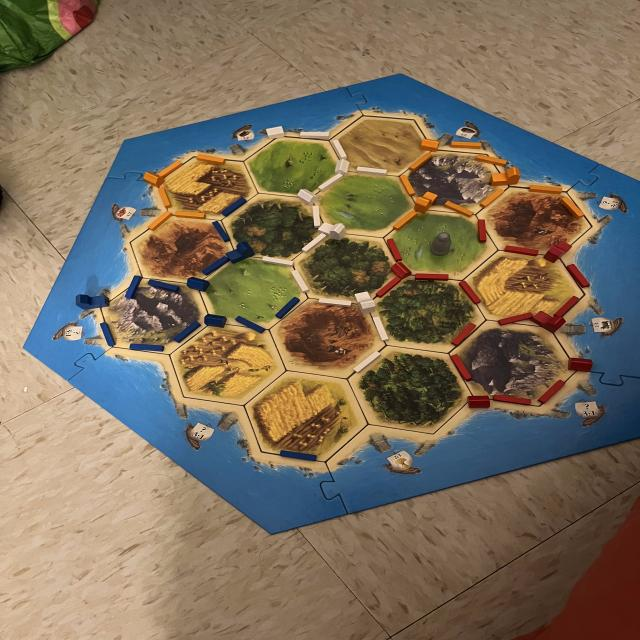blue-city: (74, 293, 112, 311), (226, 243, 257, 263)
blue-road: (271, 296, 304, 318), (277, 449, 321, 462), (172, 322, 202, 341), (219, 197, 247, 217), (127, 340, 167, 354), (201, 256, 230, 275), (97, 321, 118, 346), (147, 278, 178, 294), (209, 220, 231, 242), (236, 317, 266, 332), (125, 275, 140, 296)
blue-settlement: (201, 312, 230, 328), (187, 276, 212, 292)
orange-city: (489, 166, 519, 188), (414, 190, 438, 215)
orange-road: (557, 194, 586, 218), (480, 188, 513, 207), (146, 209, 174, 230), (153, 160, 183, 179), (443, 199, 474, 217), (394, 208, 418, 230), (527, 182, 562, 197), (194, 152, 228, 164), (477, 154, 510, 166), (154, 185, 171, 208), (410, 153, 433, 170), (170, 210, 209, 220), (399, 176, 417, 197), (449, 140, 485, 149)
orange-settlement: (418, 138, 443, 152)
red-city: (534, 308, 566, 336), (543, 238, 575, 264)
red-road: (449, 351, 473, 380), (565, 264, 591, 290), (453, 322, 477, 349), (492, 390, 532, 406), (459, 279, 483, 305), (540, 380, 564, 404), (496, 312, 536, 326), (502, 245, 541, 258), (376, 278, 401, 298), (557, 296, 576, 321), (414, 271, 450, 283), (474, 218, 488, 246), (388, 239, 404, 262)
red-settlement: (466, 392, 493, 412), (565, 357, 595, 372), (392, 262, 412, 280)
white-city: (317, 219, 347, 241), (353, 289, 377, 314)
white-road: (353, 350, 380, 372), (302, 231, 328, 253), (371, 315, 390, 341), (316, 174, 344, 190), (291, 270, 310, 293), (260, 256, 294, 268), (353, 165, 390, 176), (315, 298, 354, 308), (309, 205, 324, 229), (300, 129, 330, 140), (332, 140, 348, 158)
white-settlement: (297, 190, 318, 204), (333, 159, 351, 174), (265, 124, 285, 137)
